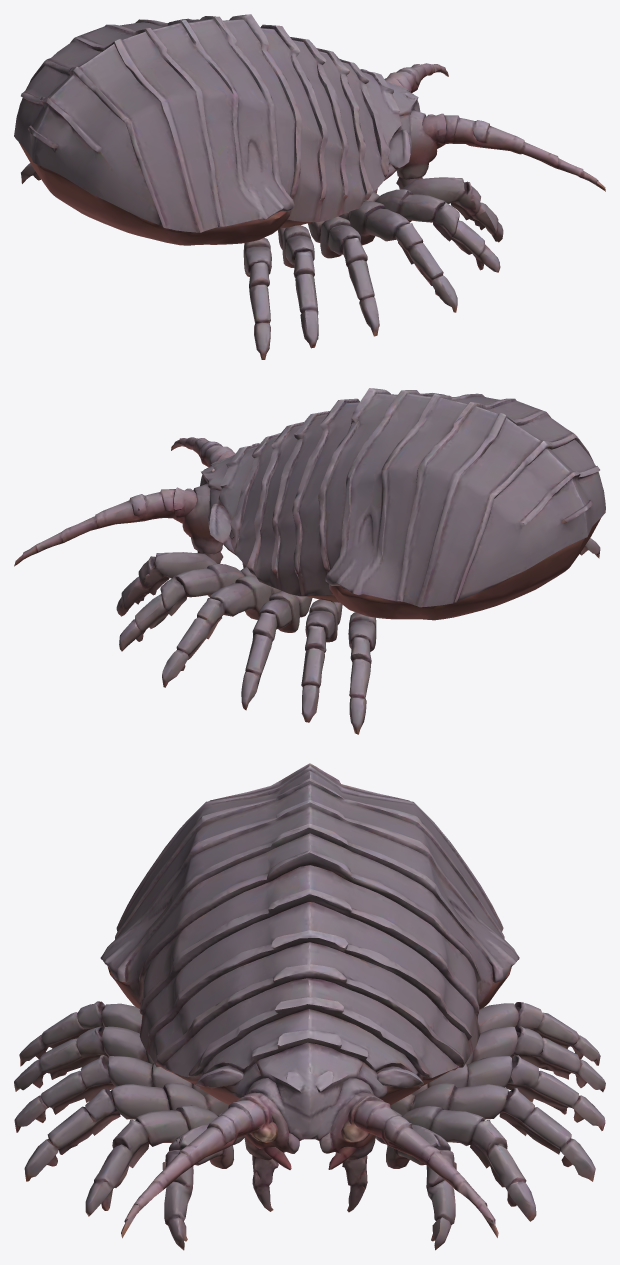
Rendered from giantIsopod.glb.
The picture shows the model from 3 angles, top to bottom: view 1: azimuth 30°, elevation 25°; view 2: azimuth 150°, elevation 25°; view 3: azimuth 270°, elevation 25°; orthographic projection. The views are drawn at different scales.
Visible parts, largest first — view 1: geometry_0; view 2: geometry_0; view 3: geometry_0.
Boxes of the visible parts, box(x1,y1,x2,y2) form: geometry_0: box(14, 14, 605, 359); geometry_0: box(14, 388, 605, 734); geometry_0: box(14, 763, 605, 1250).
Bounding box in the file's own units: 0.9981 × 0.4796 × 0.8652.
Materials: 1 (1 with a texture image).
